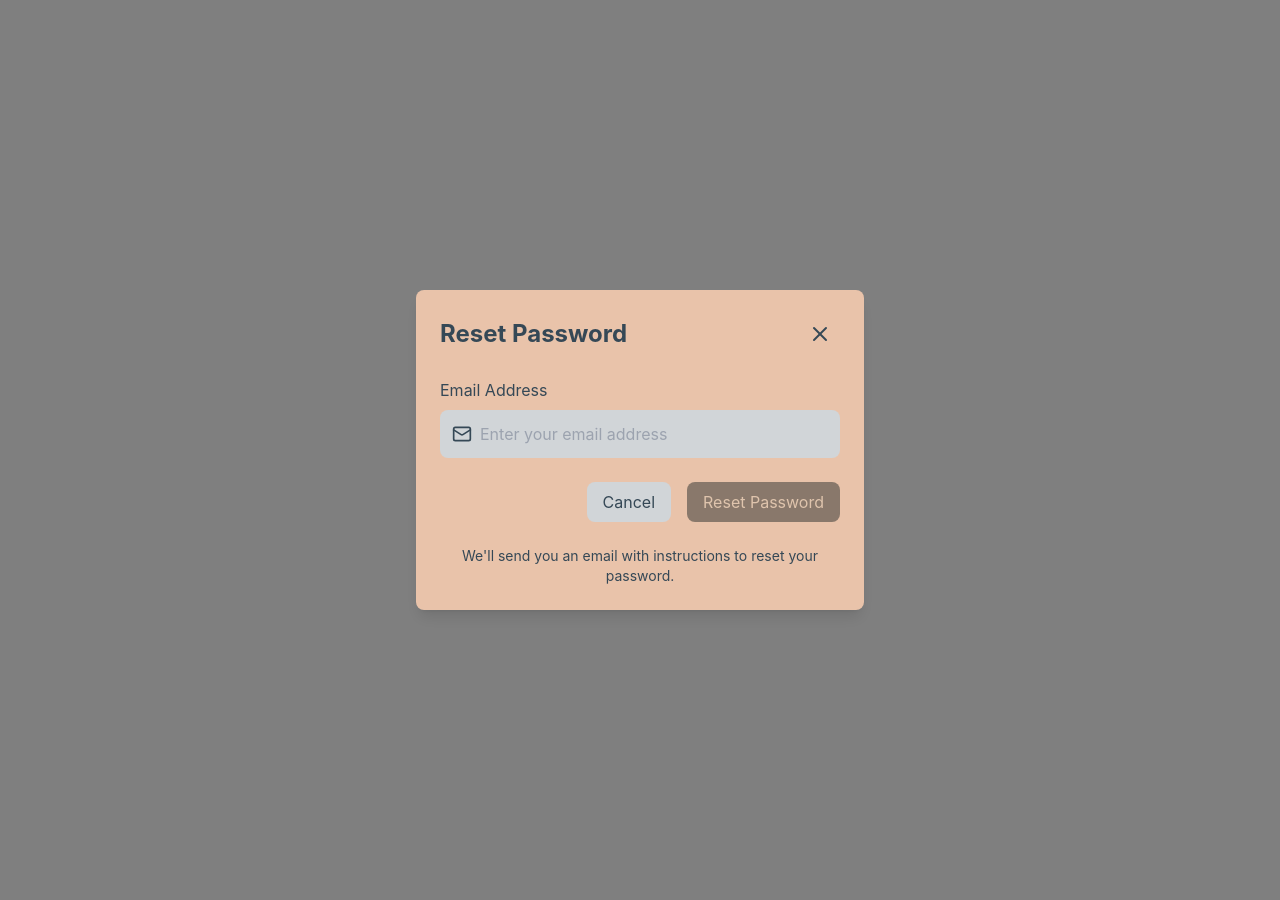
it: ForgotPasswordModal Tests › handles password reset process
This screenshot has width=1280, height=900.
In the field with placeholder "Enter your email address": (640, 434) [440,410,840,458], type "test@example.com"
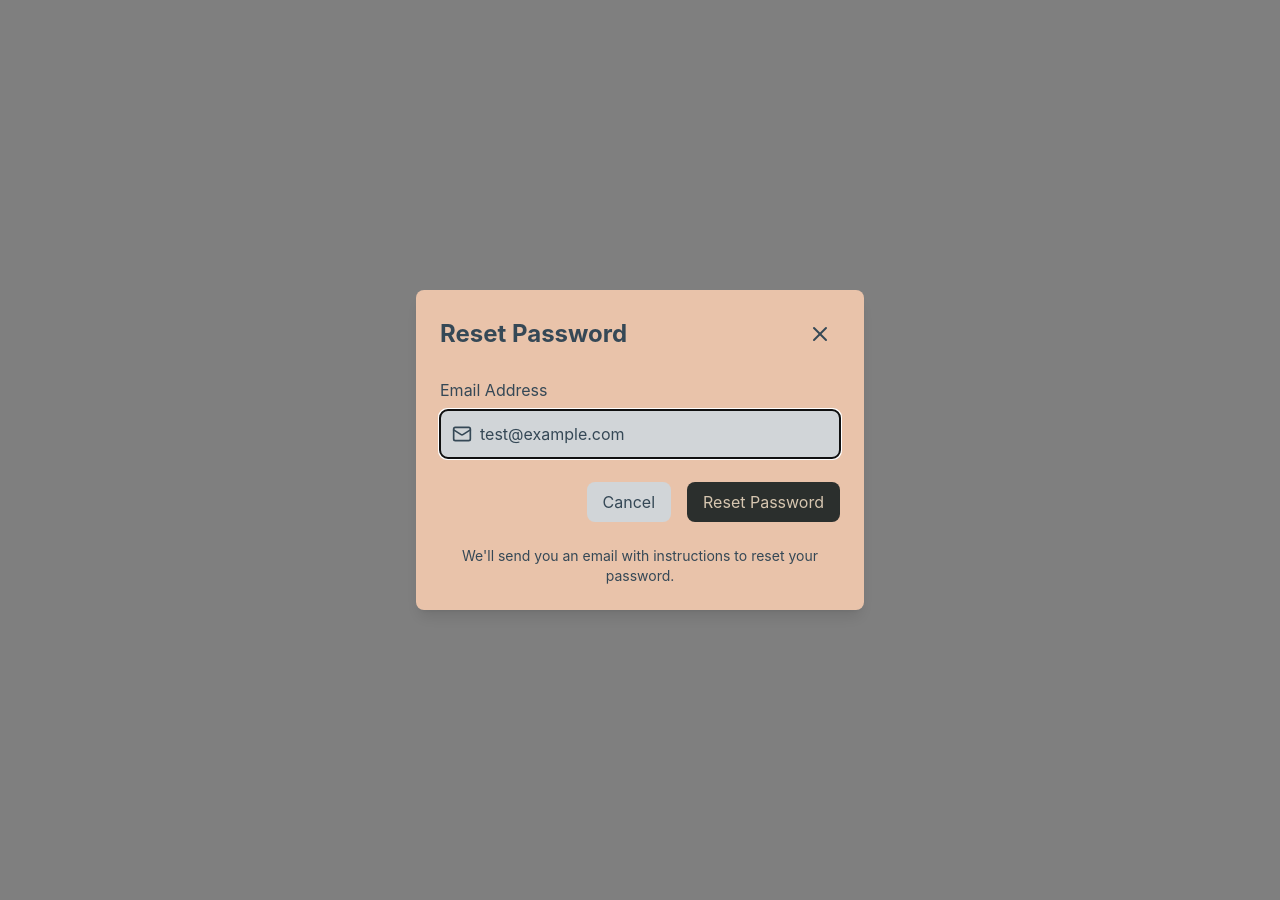
Click the button "Reset Password": (764, 502) [687,482,840,522]
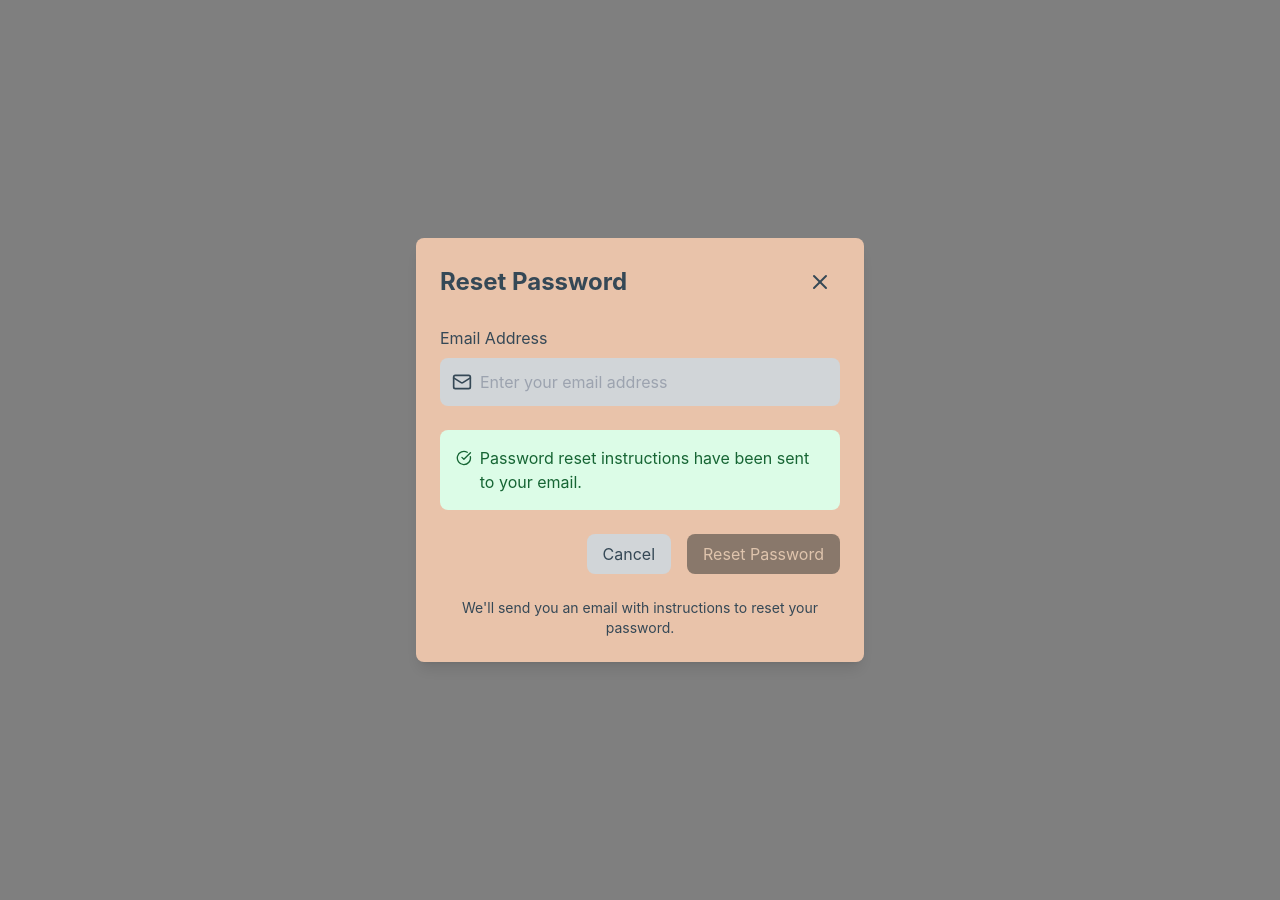
Now the text "Password reset instructions have been sent to your email." is shown, box [480,446,824,494]
